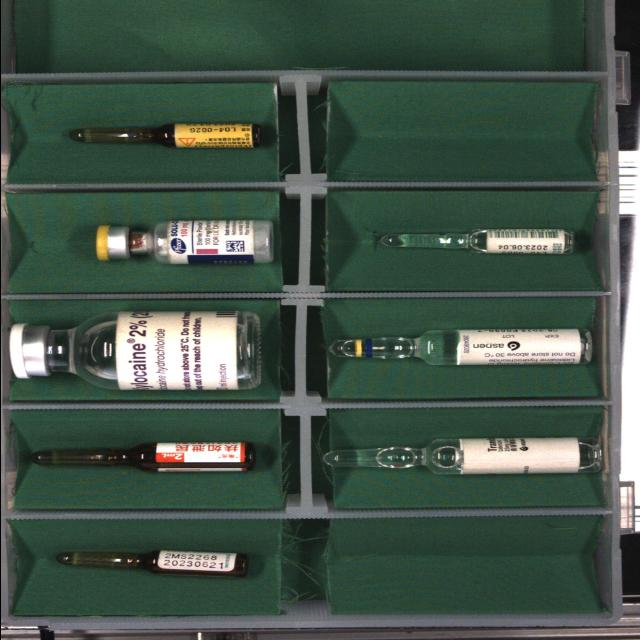Vials: (9, 311, 260, 391), (94, 220, 273, 265)
